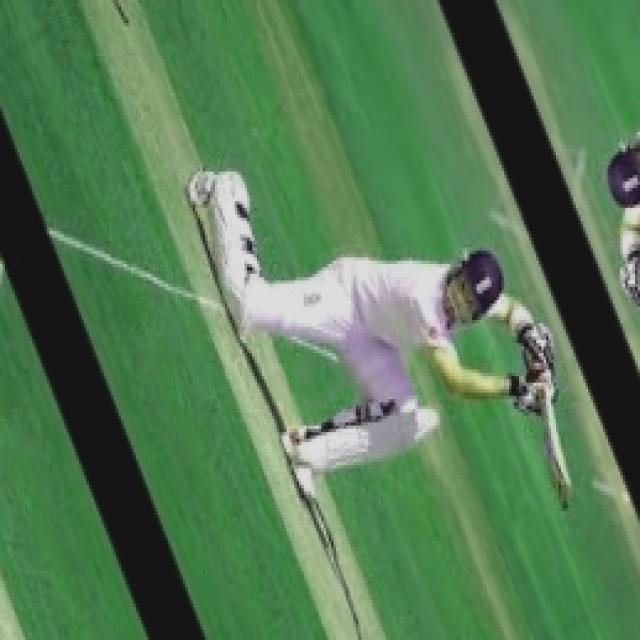bat: (538, 394, 579, 513)
toe: (559, 473, 571, 512)
